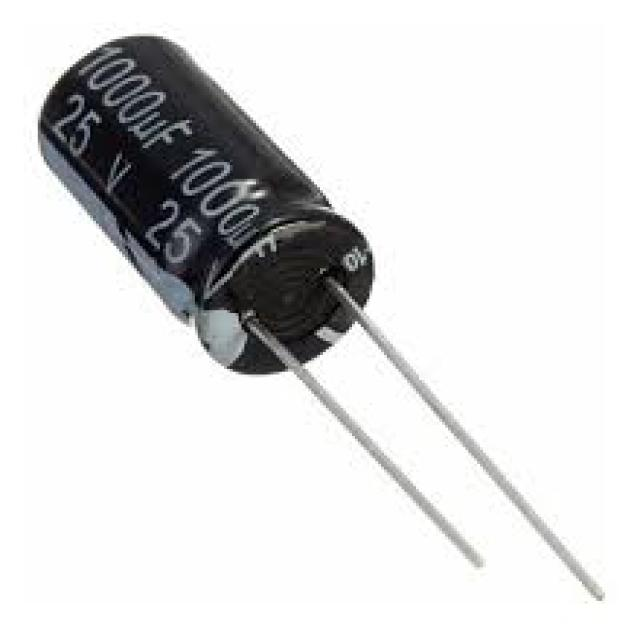Capacitor: (38, 36, 608, 601)
